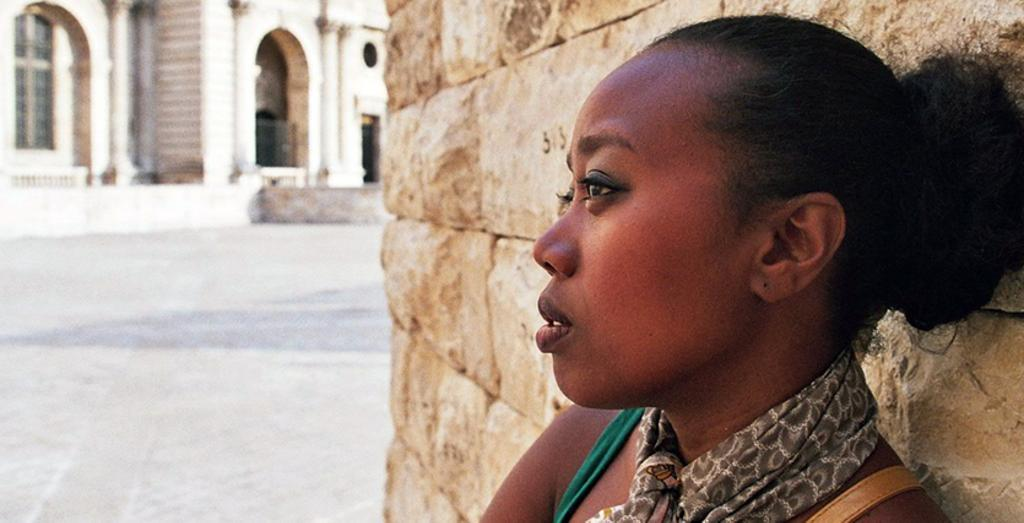face: (534, 50, 754, 402)
